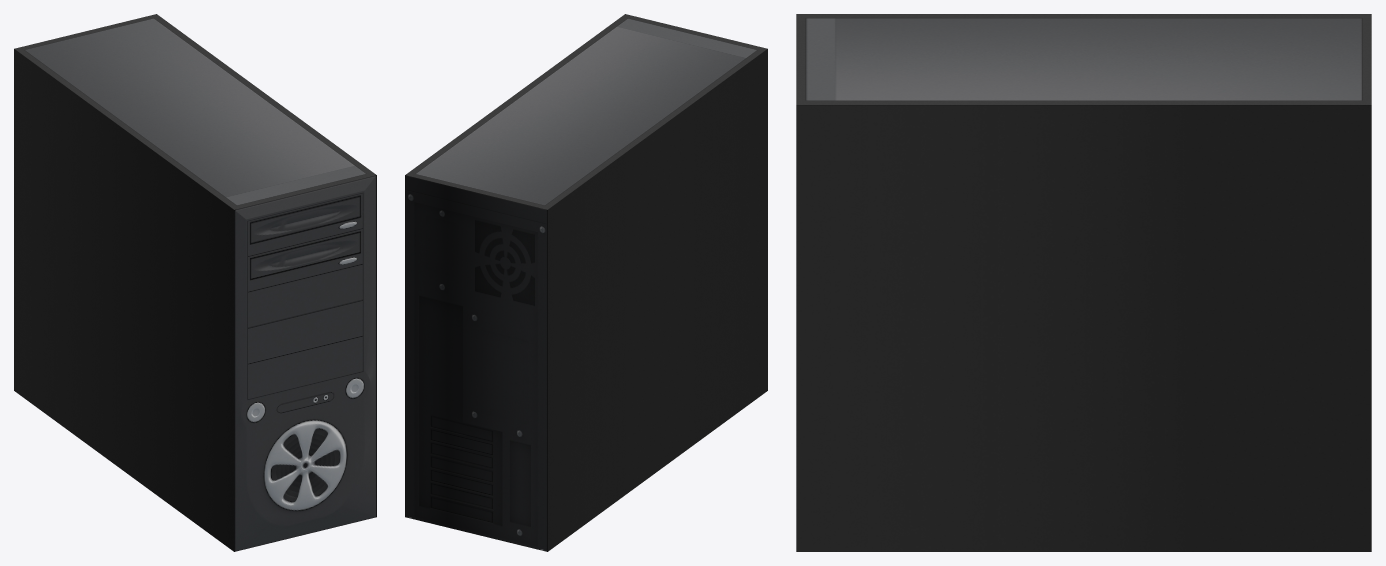
Rendered from fwqjq.obj.
The picture shows the model from 3 angles, left to right: view 1: azimuth 30°, elevation 25°; view 2: azimuth 150°, elevation 25°; view 3: azimuth 270°, elevation 25°; orthographic projection. The views are drawn at different scales.
Parts seen in each view (by area): view 1: Box115; view 2: Box115; view 3: Box115.
Part boxes in pixels (x1=…): Box115: x1=14, y1=14, x2=376, y2=551; Box115: x1=405, y1=14, x2=767, y2=551; Box115: x1=796, y1=14, x2=1371, y2=551.
Size of the model in its own units: 437 by 1000 by 1167.
Materials: 1 (1 with a texture image).
